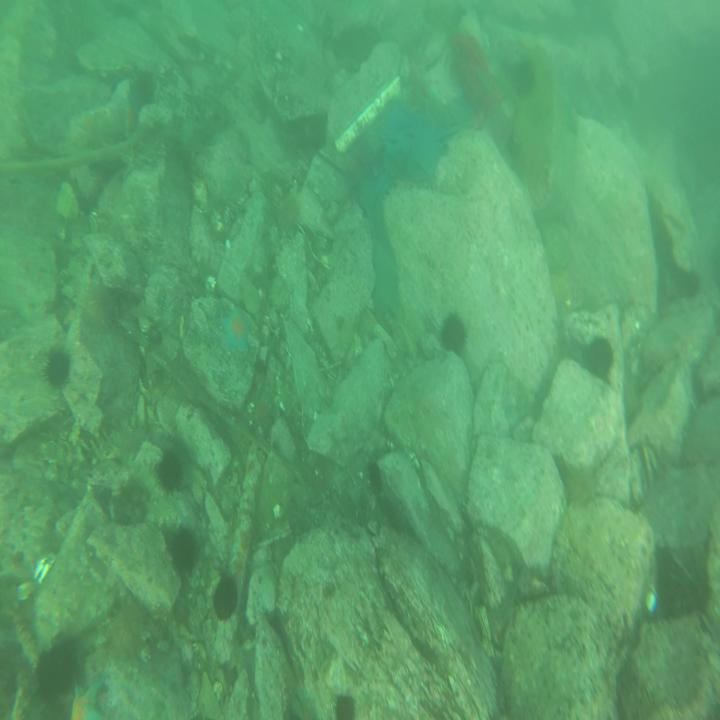echinus: (107, 599, 153, 662), (37, 643, 75, 703), (164, 524, 201, 582), (210, 567, 243, 626), (39, 342, 75, 396), (563, 462, 601, 508), (152, 448, 188, 494), (436, 312, 470, 360), (586, 333, 616, 384), (270, 190, 301, 238), (673, 261, 702, 305), (330, 684, 360, 720), (510, 57, 534, 99)
starfish: (63, 674, 110, 720), (220, 302, 250, 354), (73, 104, 104, 154), (116, 93, 143, 140)
